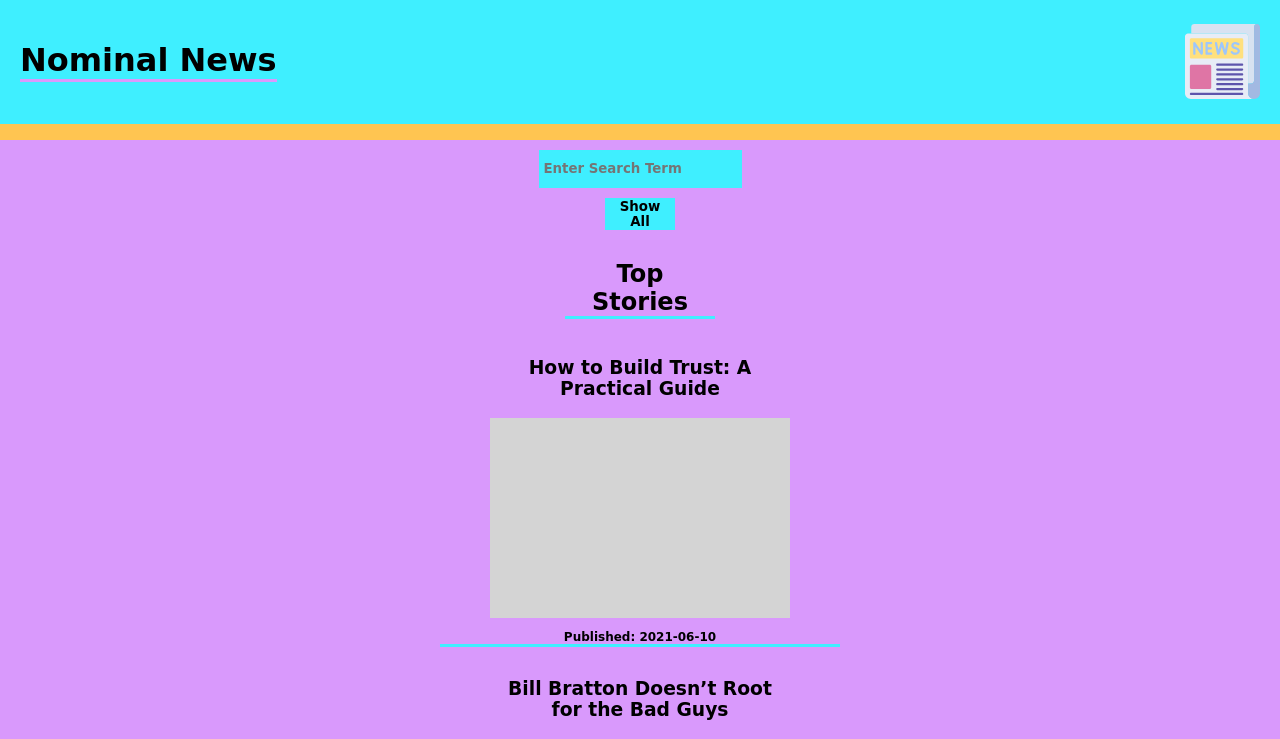
Nominal News › Should allow a user to search articles by title
The image size is (1280, 739).
In the field with test id "search": [641, 169] box [539,150,742,188], type "Bill Bratton"
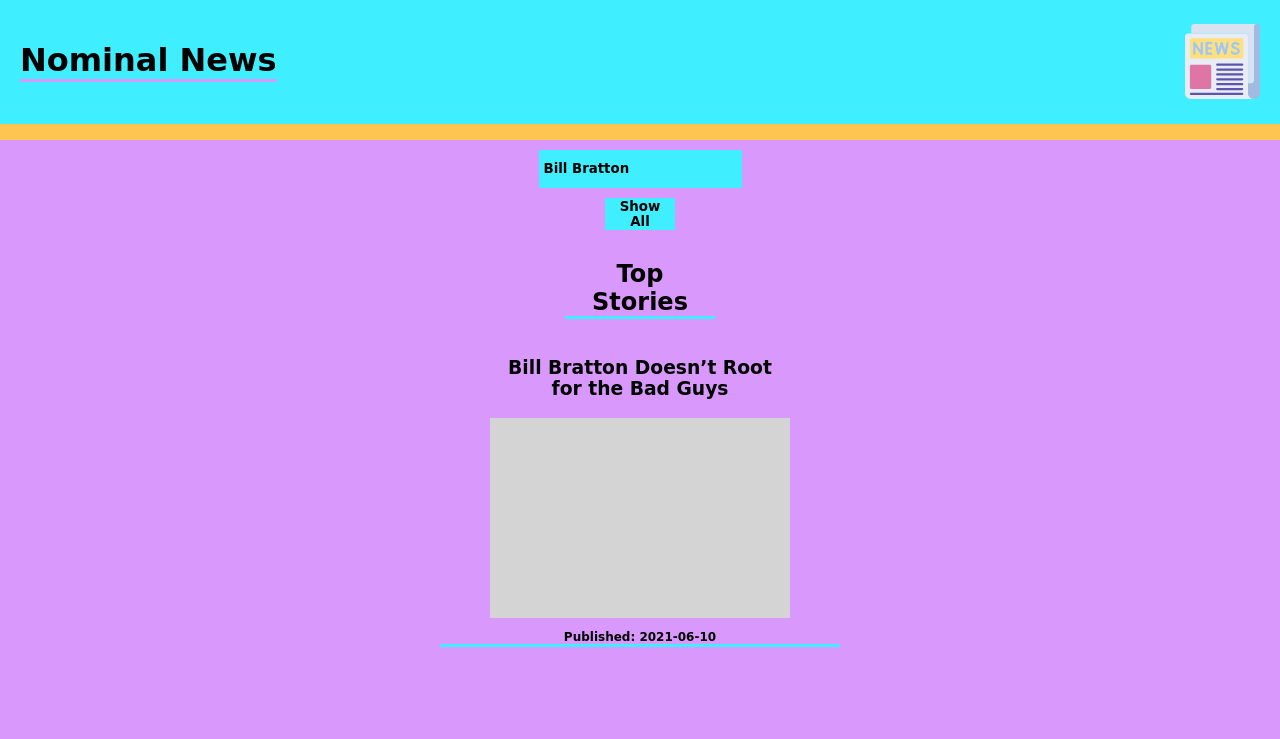
Expected: the link with test id "list-title" no longer shows "Trust"
Expected: the heading "Root for the Bad Guys" is shown, [508,357,772,399]
